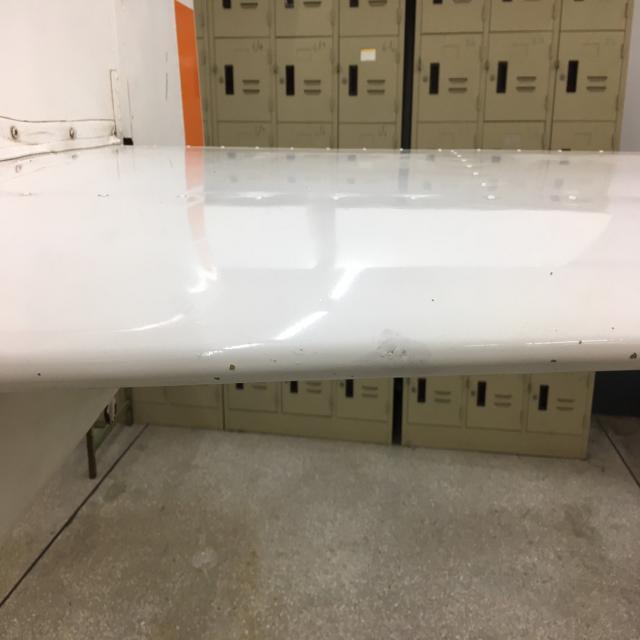Crack: (370, 327, 436, 376), (204, 352, 240, 386), (620, 348, 640, 365), (32, 366, 45, 382), (546, 356, 562, 368)
